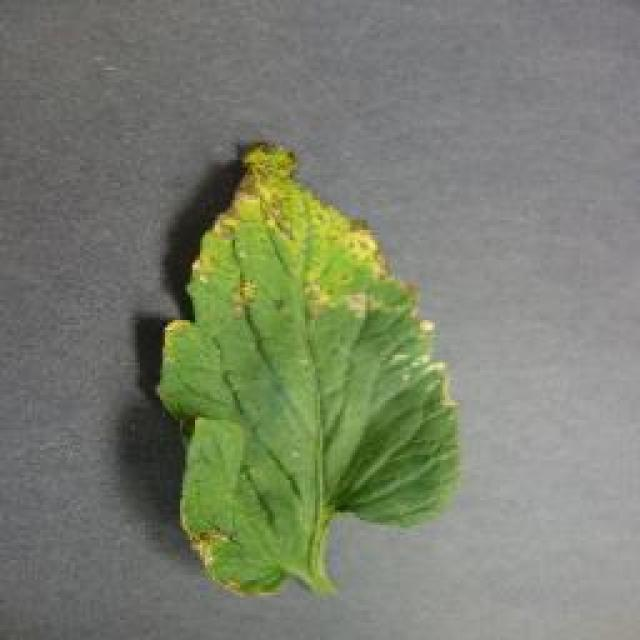Tomato bacterial spot leaf: (143, 158, 465, 602)
